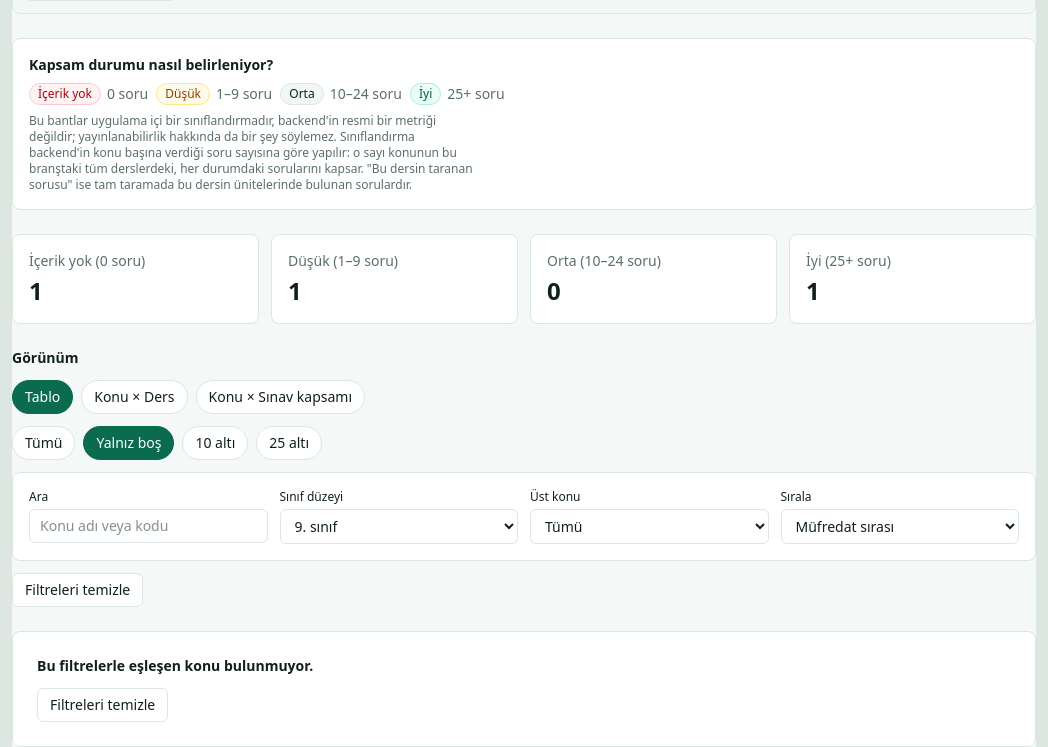
Scenario: CoverageCenter table › clears every filter and offers it for an empty result
(page scrolled)
Expected: the text "Bu filtrelerle eşleşen konu bulunmuyor." is shown, [37,656,313,675]
Click the button "Filtreleri temizle" below "Sınıf düzeyi".
click(78, 590)  # box [12,573,143,607]
(page scrolled)
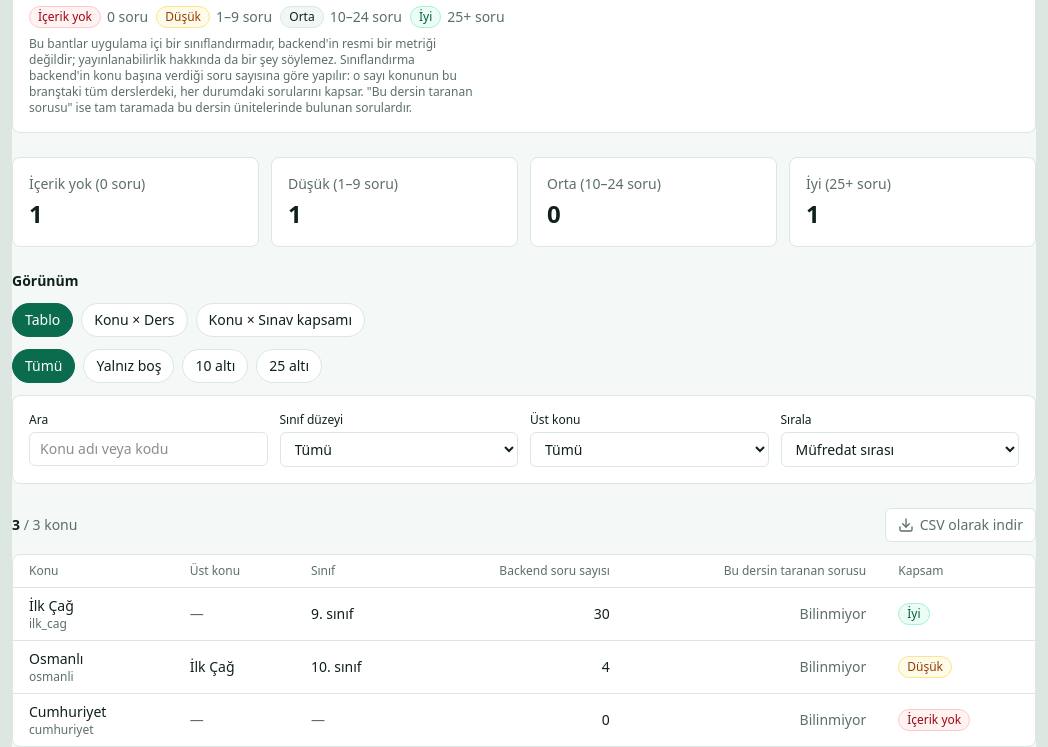
Expected: the table named "Konu kapsam tablosu" is shown, [13,555,1035,746]
